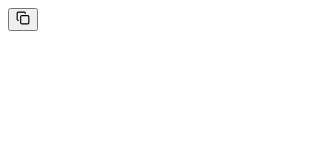
essay copy button › supports keyboard copying and resets the success feedback
This screenshot has width=320, height=160.
Step 1. Press Tab
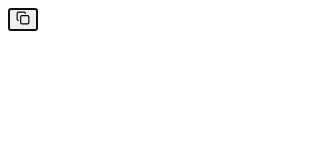
Step 2. Press Enter
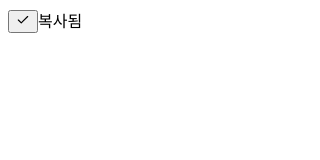
expect the text "복사됨" is shown: met, box [38,13,82,30]
Step 3. Click the button → (23, 22), box [8,10,38,33]
Wait 2000 ms
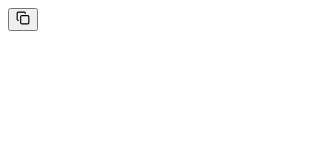
expect the icon with class "lucide-copy" is shown: met, box [16,11,30,25]
